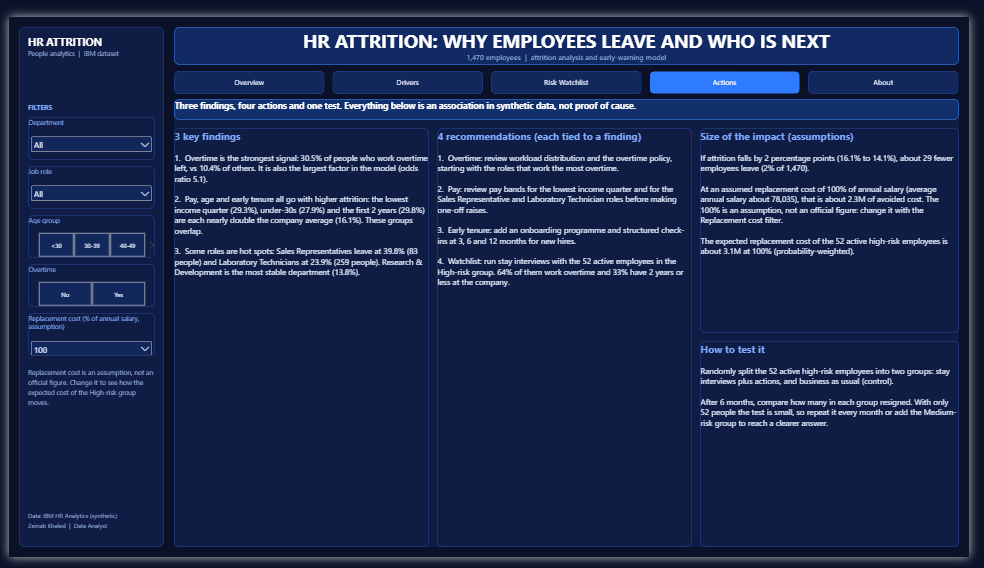

This screenshot's page, from the dashboard's own definition file:
{"tool":"powerbi","page":{"name":"Dashboard","canvas":[1920,1080],"ordinal":1},"visuals":[{"type":"textbox","box":[330,164,1570,42],"z":10,"group":"g1"},{"type":"barChart","title":"Sales and HR lose about 1 in 5 employees, R&D about 1 in 7","fields":{"Category":["HR.Department"],"Y":["HR.Attrition Rate"]},"box":[330,346,540,330],"z":10,"group":"g1"},{"type":"donutChart","title":"Share of employees who left","fields":{"Category":["HR.Attrition"],"Y":["HR.Total Employees"]},"box":[886,346,460,330],"z":11,"group":"g1"},{"type":"clusteredColumnChart","title":"Employees by model risk level","fields":{"Category":["HR.RiskLevel"],"Y":["HR.Total Employees"]},"box":[1362,346,538,330],"z":12,"group":"g1"},{"type":"tableEx","title":"Sales Representatives leave at 39.8% (83 people); most other roles stay below 20%","fields":{"Values":["HR.JobRole","HR.Total Employees","HR.Attrition Count","HR.Attrition Rate"]},"box":[330,692,940,368],"z":13,"group":"g1"},{"type":"clusteredColumnChart","title":"Those who left earned about 30% less (4,787 vs 6,833 a month)","fields":{"Category":["HR.Attrition"],"Y":["HR.Avg Monthly Income"]},"box":[1286,692,614,368],"z":14,"group":"g1"},{"type":"textbox","box":[20,20,290,1040],"z":40},{"type":"textbox","box":[38,34,254,64],"z":60},{"type":"textbox","box":[38,170,254,24],"z":62},{"type":"slicer","title":"Department","fields":{"Values":["HR.Department"]},"box":[38,200,254,86],"z":70},{"type":"slicer","title":"Job role","fields":{"Values":["HR.JobRole"]},"box":[38,298,254,86],"z":71},{"type":"slicer","title":"Age group","fields":{"Values":["HR.AgeGroup"]},"box":[38,396,254,86],"z":72},{"type":"slicer","title":"Overtime","fields":{"Values":["HR.OverTime"]},"box":[38,494,254,86],"z":73},{"type":"slicer","title":"Replacement cost (% of annual salary, assumption)","fields":{"Values":["Replacement Cost.Replacement Cost"]},"box":[38,592,254,86],"z":74},{"type":"textbox","box":[38,700,254,170],"z":75},{"type":"textbox","box":[38,985,254,60],"z":76},{"type":"textbox","box":[330,20,1570,76],"z":100},{"type":"cardVisual","fields":{"Data":["HR.Total Employees"]},"box":[330,222,248,108],"z":100,"group":"g1"},{"type":"cardVisual","fields":{"Data":["HR.Attrition Count"]},"box":[594,222,248,108],"z":101,"group":"g1"},{"type":"cardVisual","fields":{"Data":["HR.Attrition Rate"]},"box":[858,222,248,108],"z":102,"group":"g1"},{"type":"cardVisual","fields":{"Data":["HR.Avg Monthly Income"]},"box":[1122,222,248,108],"z":103,"group":"g1"},{"type":"cardVisual","fields":{"Data":["HR.Avg Tenure (Years)"]},"box":[1386,222,248,108],"z":104,"group":"g1"},{"type":"cardVisual","fields":{"Data":["HR.High Risk (Active)"]},"box":[1650,222,250,108],"z":105,"group":"g1"},{"type":"bookmarkNavigator","box":[330,108,1570,46],"z":200},{"type":"group","id":"g1","title":"V1 Overview","box":[330,164,1570,896],"z":1000}]}

Visuals, with their boxes in screenshot pixels (x1, y1, x2, y2), scaled from the page's 1920x1080 canvas onto the 984x568 screenshot:
textbox: (169, 86, 974, 108)
"Sales and HR lose about 1 in 5 employees, R&D about 1 in 7" barChart: (169, 182, 446, 356)
"Share of employees who left" donutChart: (454, 182, 690, 356)
"Employees by model risk level" clusteredColumnChart: (698, 182, 974, 356)
"Sales Representatives leave at 39.8% (83 people); most other roles stay below 20%" tableEx: (169, 364, 651, 557)
"Those who left earned about 30% less (4,787 vs 6,833 a month)" clusteredColumnChart: (659, 364, 974, 557)
textbox: (10, 11, 159, 557)
textbox: (19, 18, 150, 52)
textbox: (19, 89, 150, 102)
"Department" slicer: (19, 105, 150, 150)
"Job role" slicer: (19, 157, 150, 202)
"Age group" slicer: (19, 208, 150, 253)
"Overtime" slicer: (19, 260, 150, 305)
"Replacement cost (% of annual salary, assumption)" slicer: (19, 311, 150, 357)
textbox: (19, 368, 150, 458)
textbox: (19, 518, 150, 550)
textbox: (169, 11, 974, 50)
cardVisual - HR.Total Employees: (169, 117, 296, 174)
cardVisual - HR.Attrition Count: (304, 117, 432, 174)
cardVisual - HR.Attrition Rate: (440, 117, 567, 174)
cardVisual - HR.Avg Monthly Income: (575, 117, 702, 174)
cardVisual - HR.Avg Tenure (Years): (710, 117, 837, 174)
cardVisual - HR.High Risk (Active): (846, 117, 974, 174)
bookmarkNavigator: (169, 57, 974, 81)
"V1 Overview" group: (169, 86, 974, 557)
